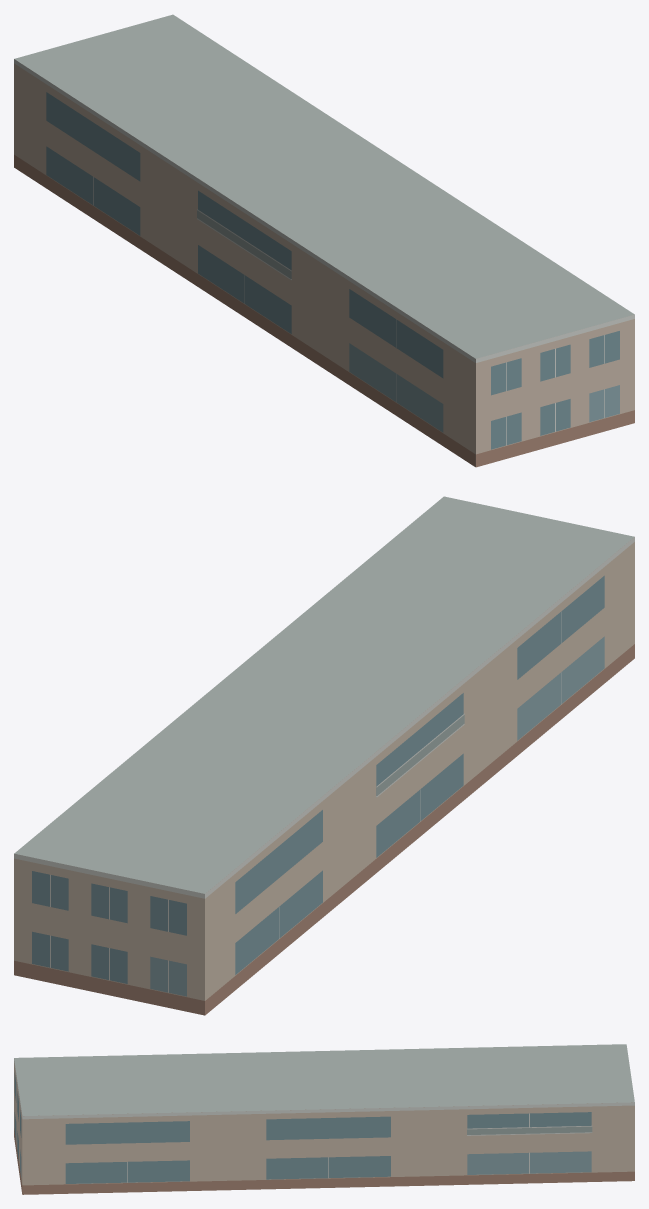
The model's file is survey-upis-32839713.glb.
3 views of the same model, one above another, from view 1: azimuth 30°, elevation 25°; view 2: azimuth 150°, elevation 25°; view 3: azimuth 270°, elevation 25° (orthographic). The views are drawn at different scales.
Visible parts, largest first — view 1: survey-upis-32839713.tmp; view 2: survey-upis-32839713.tmp; view 3: survey-upis-32839713.tmp.
Part boxes in pixels (bbox=[...]): survey-upis-32839713.tmp: bbox=[14, 14, 634, 467]; survey-upis-32839713.tmp: bbox=[14, 496, 634, 1015]; survey-upis-32839713.tmp: bbox=[14, 1044, 634, 1194].
Size of the model in its own units: 11.99 by 6.1 by 43.65.
